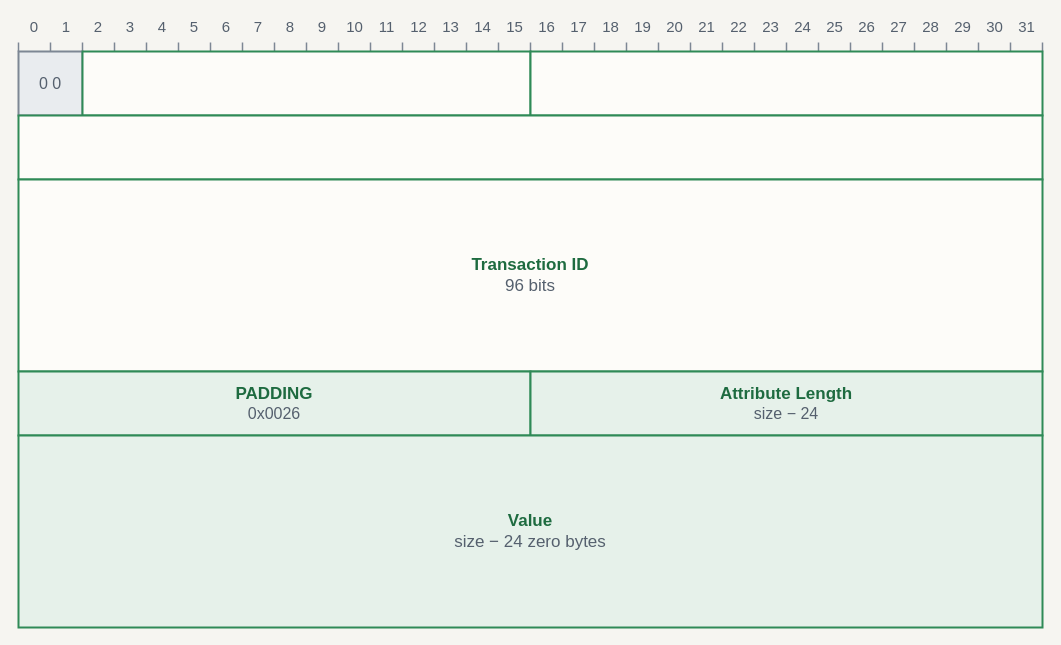
Image size: 1061x645. Some labels were removed from this diagram. The centre of each missing label's shape, as x and y in pixels:
"Binding Request 0x0001" goes at (306,83).
"Magic Cookie 0x2112A442" goes at (530,147).
"Message Length size − 20" goes at (786,83).
